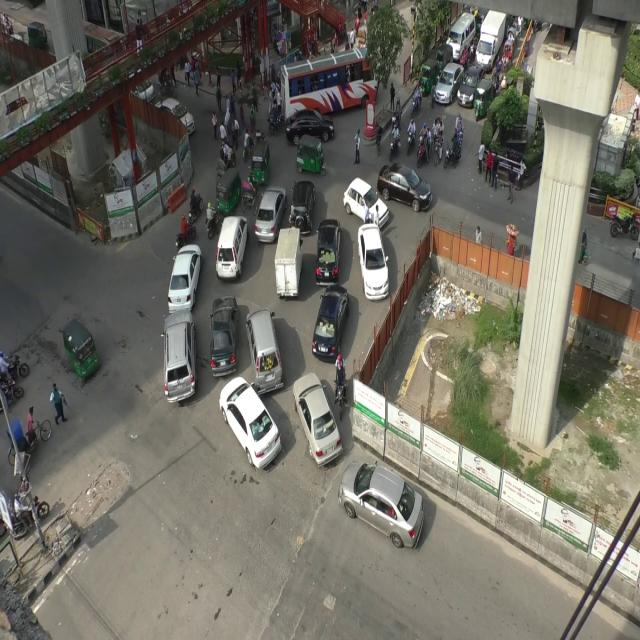cng: (58, 316, 100, 384), (294, 133, 333, 186), (247, 135, 270, 193), (214, 169, 240, 219), (475, 76, 493, 114), (420, 55, 434, 97), (437, 38, 452, 77)
rikshaw: (3, 410, 53, 470), (432, 116, 448, 166), (503, 40, 515, 70)
